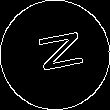N_W: (27, 31, 83, 79)
